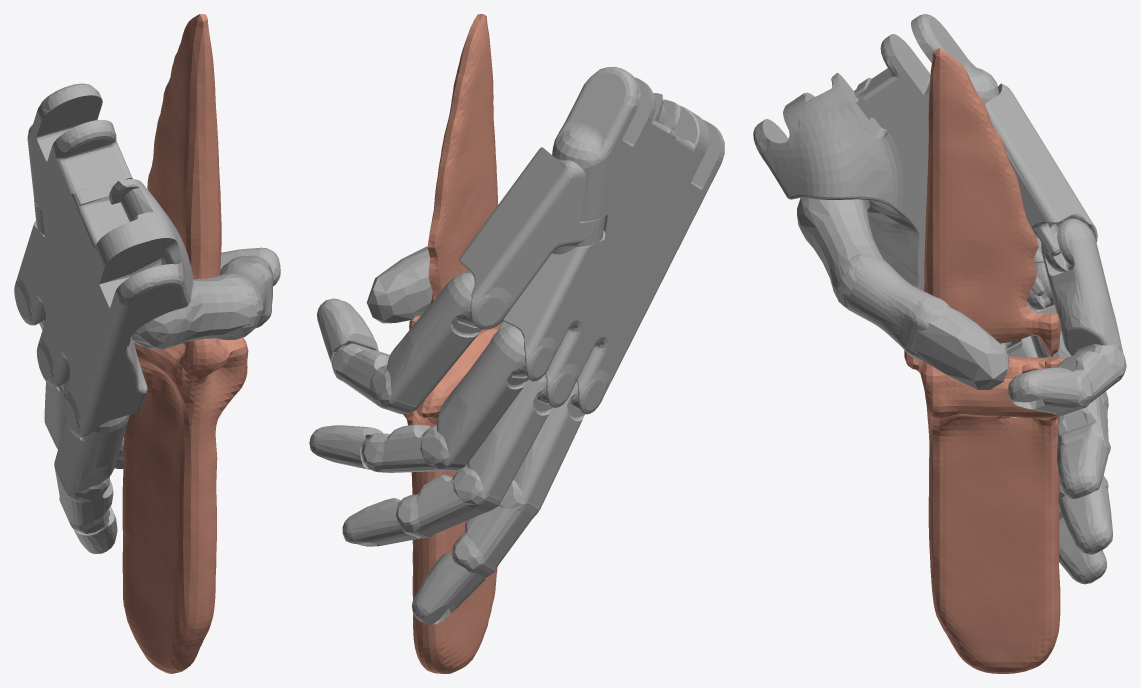
3 renders of one model, left to right at view 1: azimuth 30°, elevation 25°; view 2: azimuth 150°, elevation 25°; view 3: azimuth 270°, elevation 25°, orthographic. The views are drawn at different scales.
Visible parts, largest first — view 1: world; view 2: world; view 3: world.
Part boxes in pixels (x1=…): world: x1=14, y1=14, x2=280, y2=673; world: x1=309, y1=14, x2=724, y2=673; world: x1=753, y1=14, x2=1126, y2=673.
Size of the model in its own units: 0.7485 by 1.64 by 0.8865.
